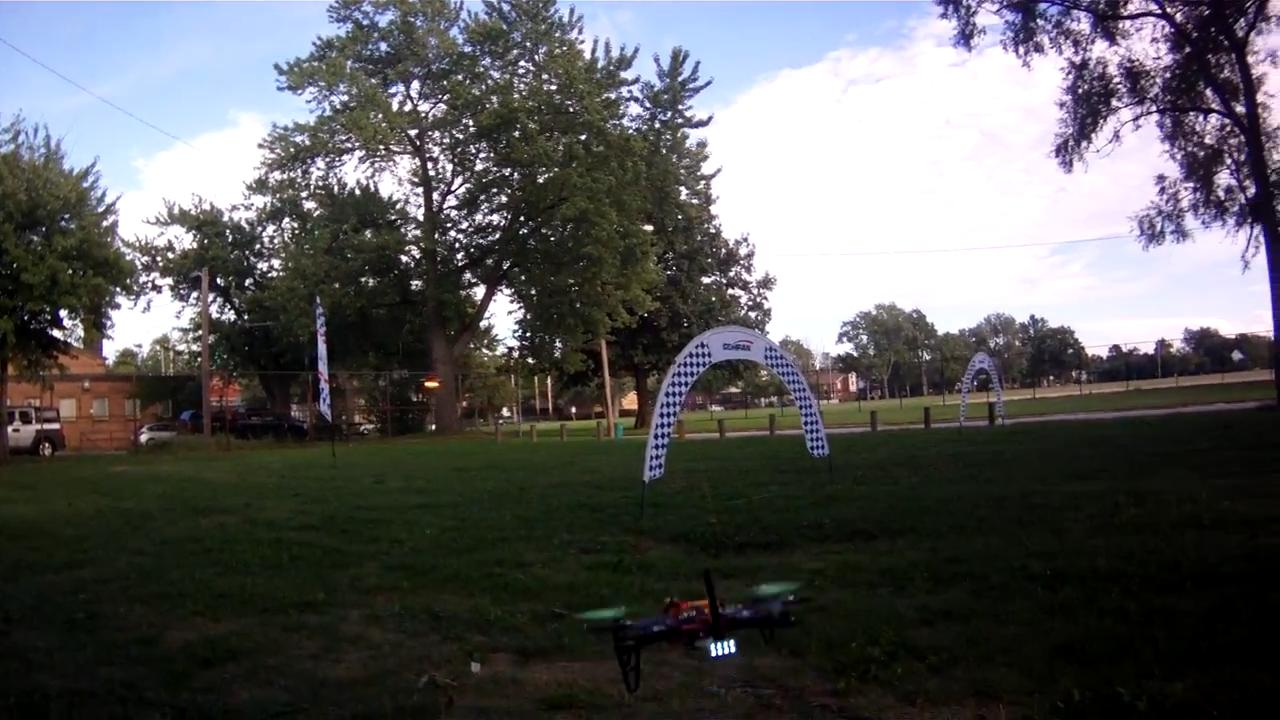gate: (640, 324, 831, 482), (957, 348, 1004, 430)
